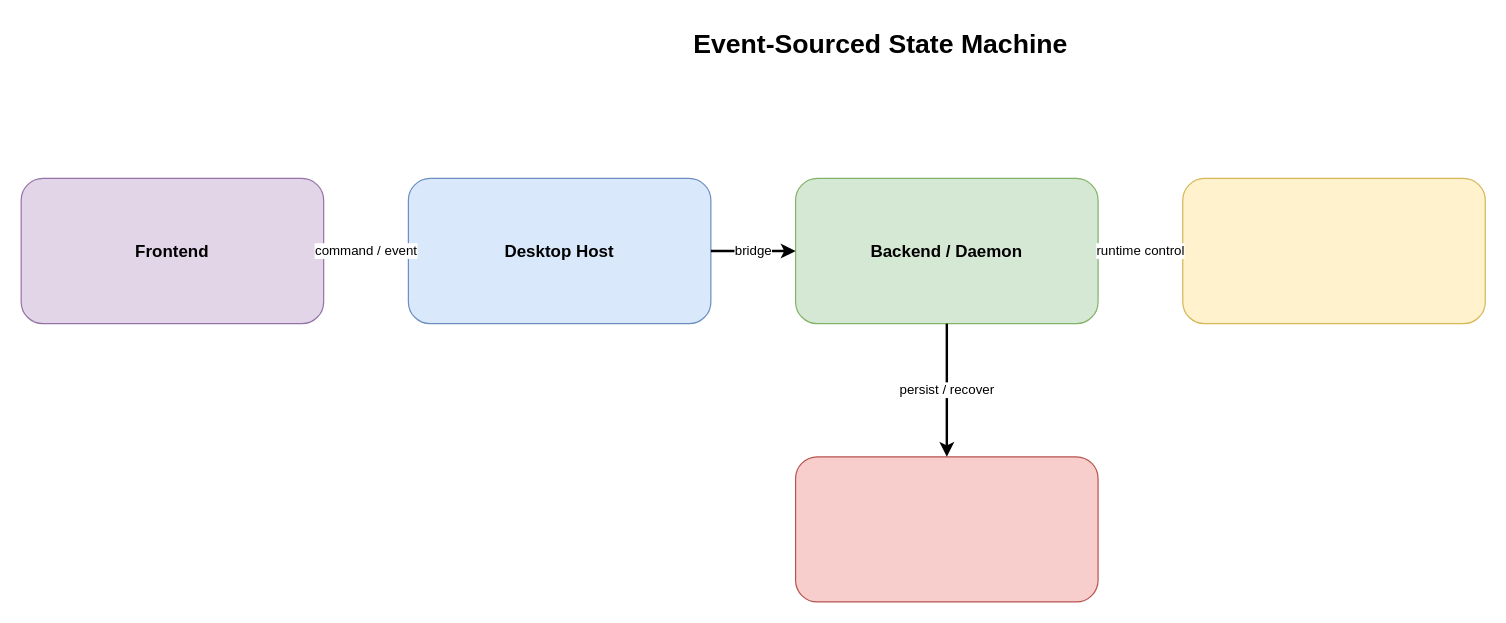
This 1506x623 diagram has some shape labels left out. The shapes that lost their labels are listed below. From the top down, each one's box as (x1, y1, x2, y2) in pixels, then its label:
(1182, 177, 1485, 324): Runtime / Hooks
(794, 456, 1098, 602): Storage / Event Log
